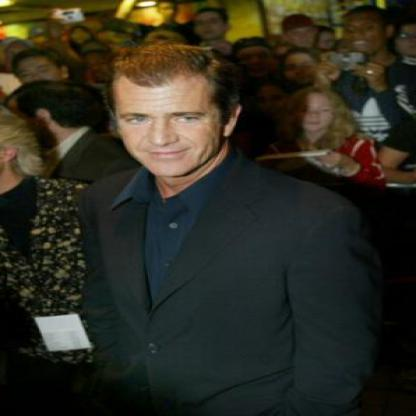face: (114, 59, 224, 180), (342, 10, 388, 55), (294, 92, 338, 134), (21, 53, 61, 92), (285, 53, 323, 88), (237, 41, 273, 75), (196, 11, 226, 40), (287, 21, 318, 49)
